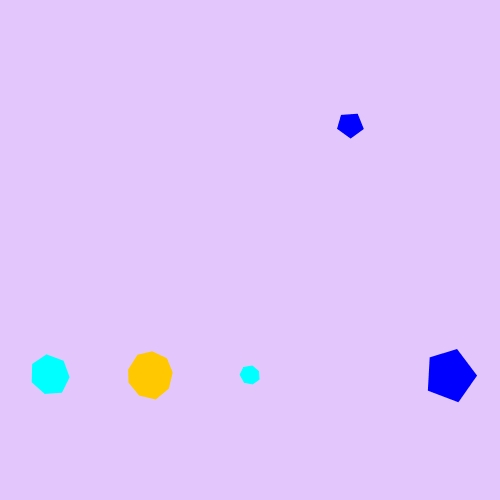heptagon: (26, 352, 74, 398), (236, 361, 265, 389)
nonagon: (123, 349, 178, 401)
pentagon: (421, 346, 479, 404), (333, 108, 367, 142)
